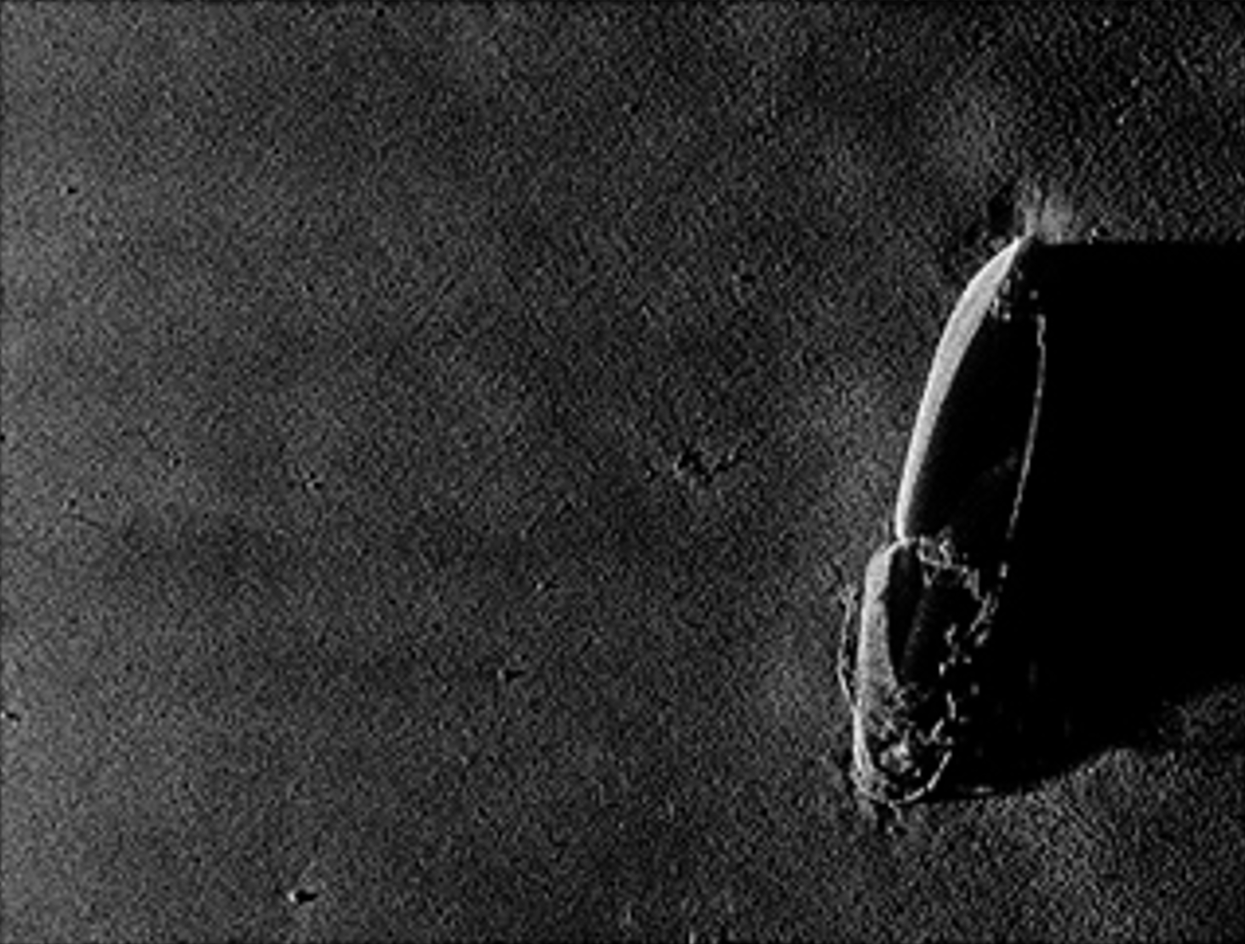ship: (836, 231, 1055, 802)
